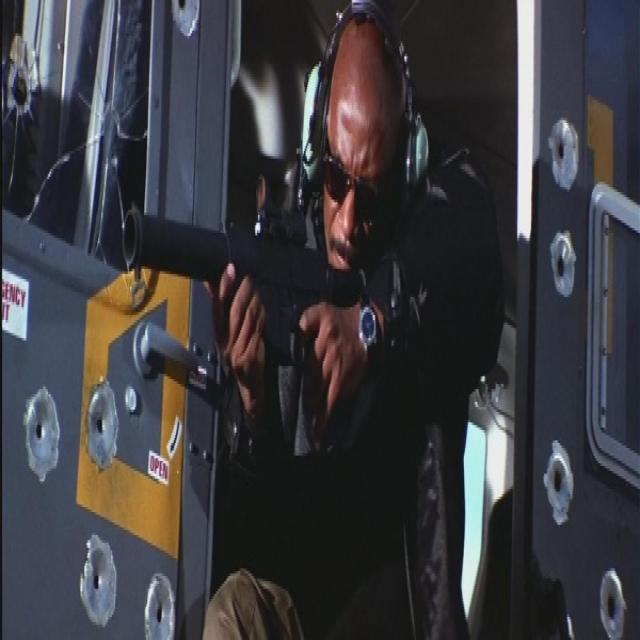rifle: (120, 185, 361, 369)
